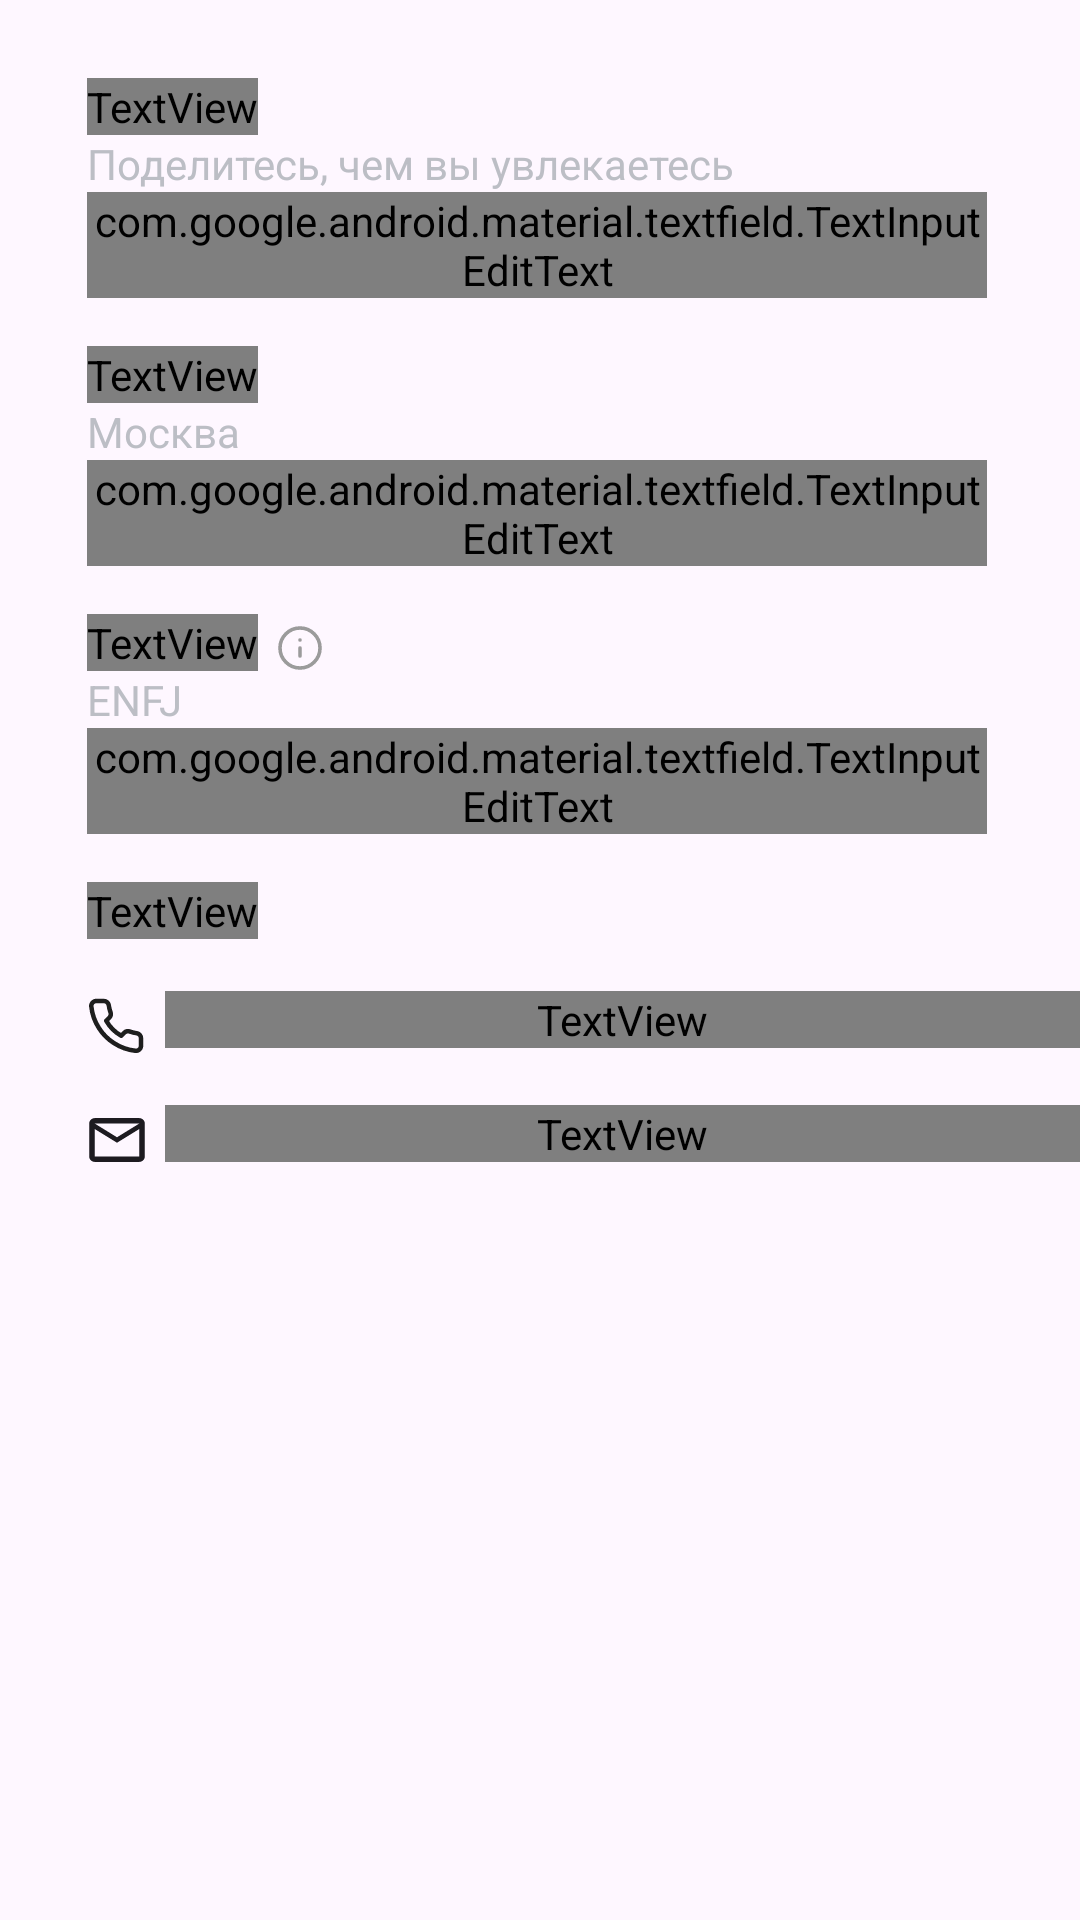

Screen size 1080x1920. Icon name, then its box in pixels as (x1, y1, x2, y2):
info: (278, 626, 322, 670)
mail: (89, 1118, 145, 1162)
phone: (89, 998, 144, 1053)
